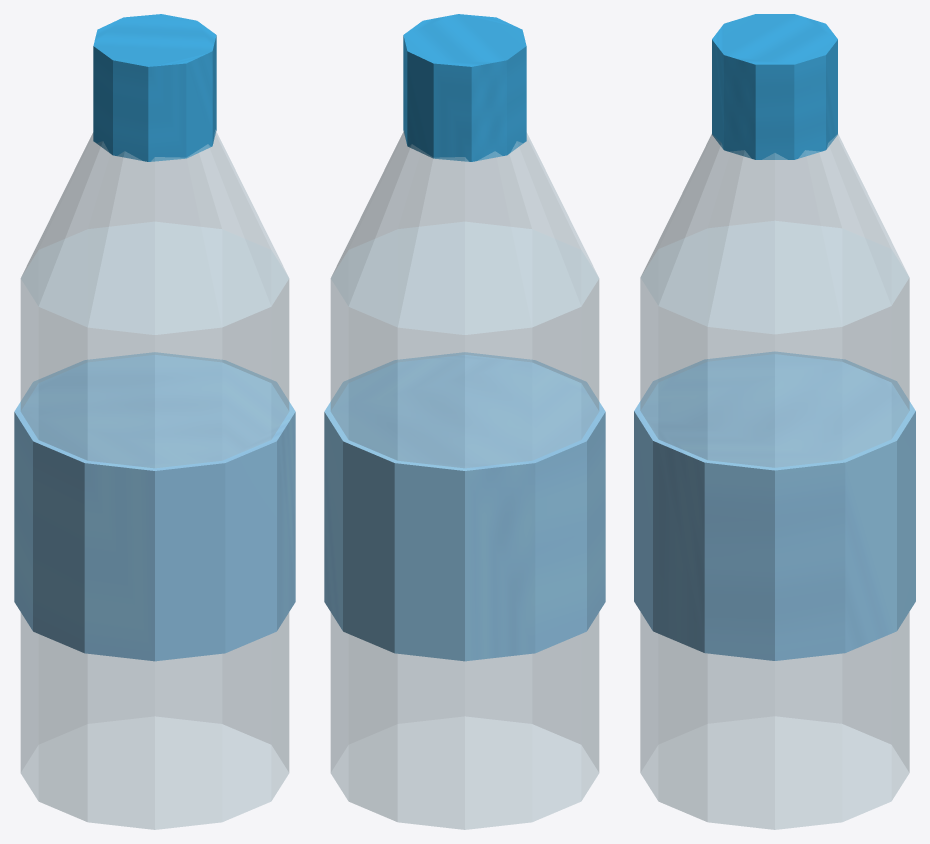
File: T_bottle.glb
3 renders of one model, left to right at view 1: azimuth 30°, elevation 25°; view 2: azimuth 150°, elevation 25°; view 3: azimuth 270°, elevation 25°, orthographic.
Parts seen in each view (by area): view 1: Bottle; view 2: Bottle; view 3: Bottle.
Boxes of the visible parts, left/top/right/bottom form: Bottle: left=14, top=14, right=295, bottom=829; Bottle: left=324, top=14, right=605, bottom=829; Bottle: left=634, top=14, right=915, bottom=829.
Size of the model in its own units: 0.067 by 0.1925 by 0.067.
Materials: 2 (1 with a texture image).
